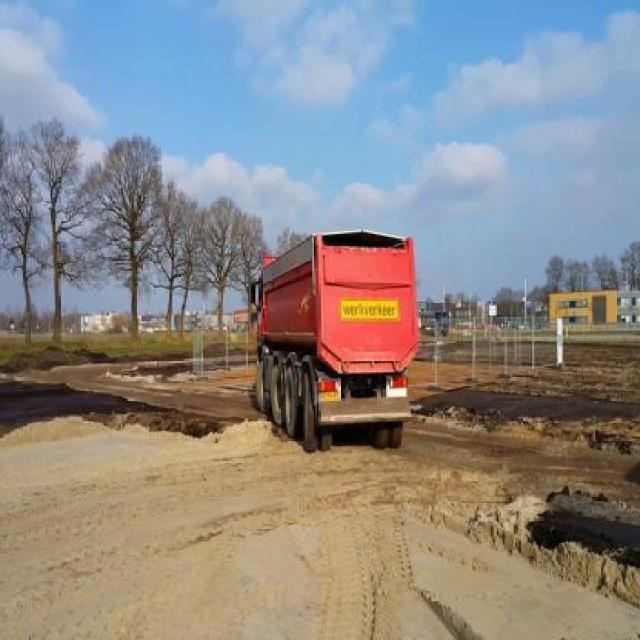dump_truck: (250, 228, 418, 450), (418, 308, 450, 335)
